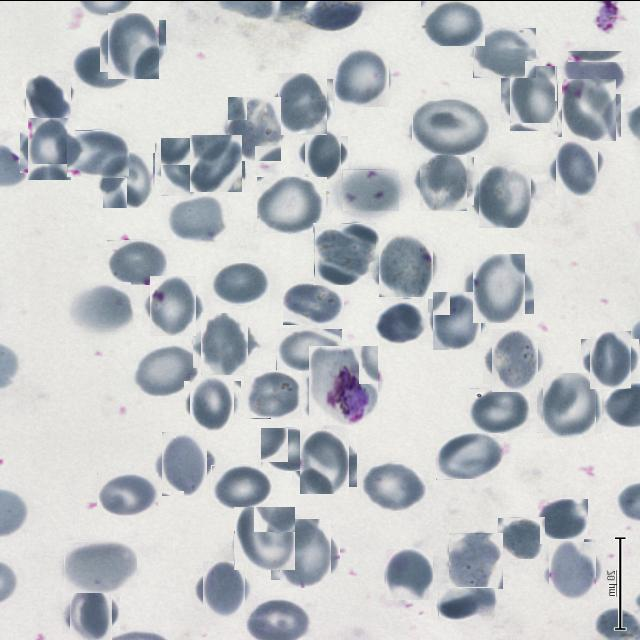difficult: (306, 348, 381, 422)
red blood cell: (412, 99, 489, 154), (258, 176, 328, 232), (233, 506, 296, 568), (468, 256, 530, 318), (314, 222, 376, 284), (64, 540, 137, 592), (276, 523, 336, 583), (376, 235, 436, 295), (540, 375, 599, 435), (224, 99, 284, 158), (132, 344, 199, 396), (104, 15, 162, 74), (476, 166, 534, 224), (560, 80, 618, 138), (436, 430, 504, 479), (296, 432, 353, 490), (360, 460, 426, 510), (473, 27, 536, 77), (274, 75, 330, 131), (506, 70, 562, 126), (188, 134, 244, 190), (334, 49, 391, 104), (23, 120, 78, 176), (416, 152, 471, 208), (487, 332, 542, 387), (198, 316, 252, 372), (100, 150, 156, 204), (449, 532, 503, 588), (157, 436, 212, 490), (545, 542, 600, 596), (66, 129, 129, 176), (167, 193, 228, 241), (561, 49, 627, 93), (244, 368, 302, 418), (467, 386, 530, 432), (71, 282, 131, 330), (421, 0, 485, 45), (147, 278, 200, 332), (276, 327, 342, 370), (430, 294, 484, 346), (106, 238, 167, 284), (72, 43, 134, 88), (158, 140, 210, 192), (97, 472, 158, 516), (211, 464, 272, 508), (284, 281, 346, 324), (260, 426, 319, 470), (198, 564, 248, 614), (552, 141, 602, 191), (188, 377, 238, 427), (24, 74, 74, 124), (384, 549, 434, 599), (586, 334, 636, 384), (66, 588, 116, 638), (212, 262, 270, 304), (342, 168, 399, 210), (376, 300, 426, 342), (538, 498, 588, 540), (497, 516, 545, 558), (438, 586, 495, 620), (300, 132, 344, 176)
